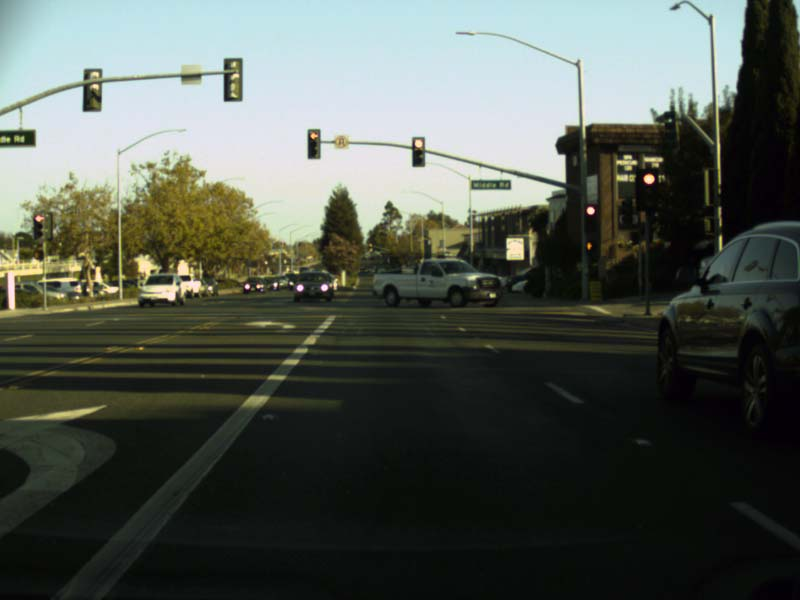Red: (636, 168, 657, 210), (306, 129, 320, 159), (411, 136, 425, 166), (584, 204, 596, 230), (34, 215, 43, 237), (367, 243, 372, 249)
